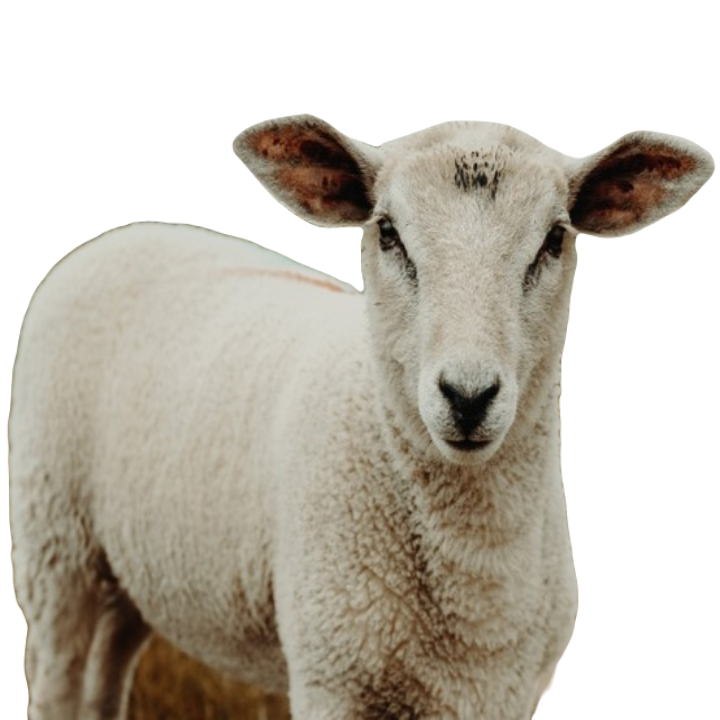Sheep: (1, 104, 716, 719)
